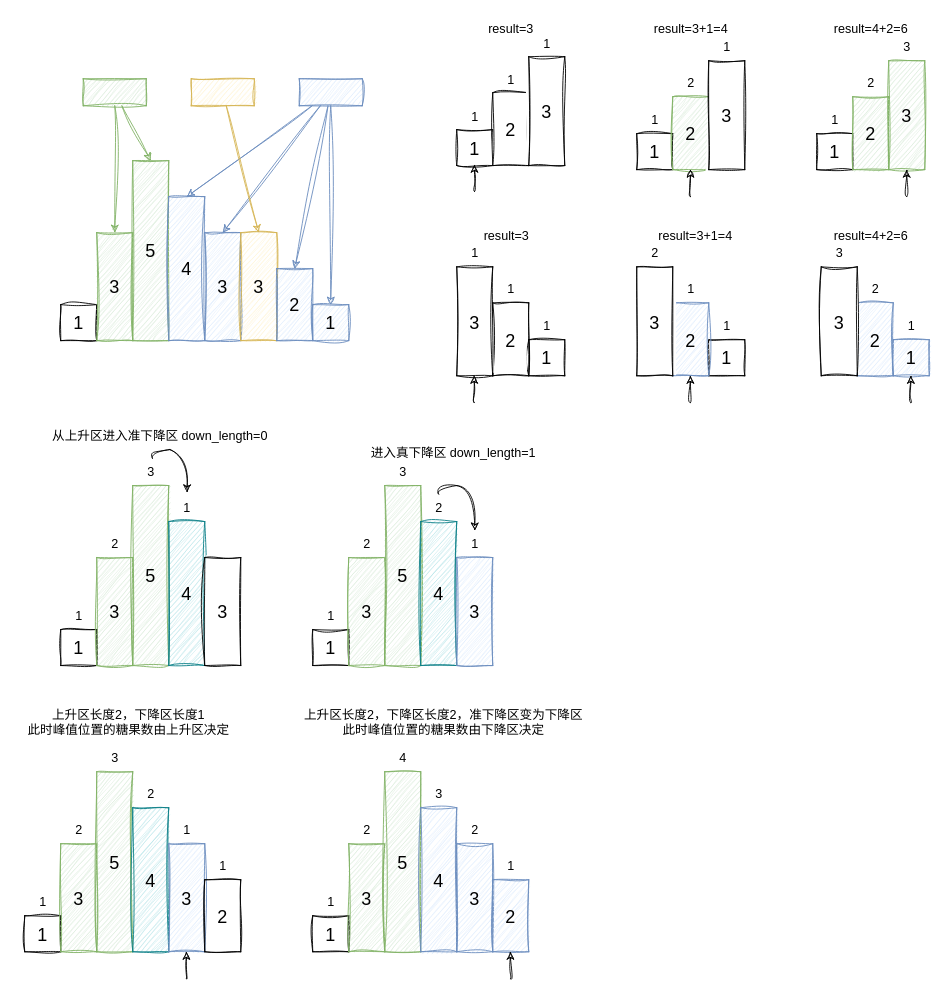
Image size: 945x995. Some labels were removed from this diagram. The shapes that lost their labels are listed below. From the top down, each one's centre as x and y in pixels, then its label:
At point 114,92: "上升区".
At point 222,92: "平缓区".
At point 330,92: "下降区".
